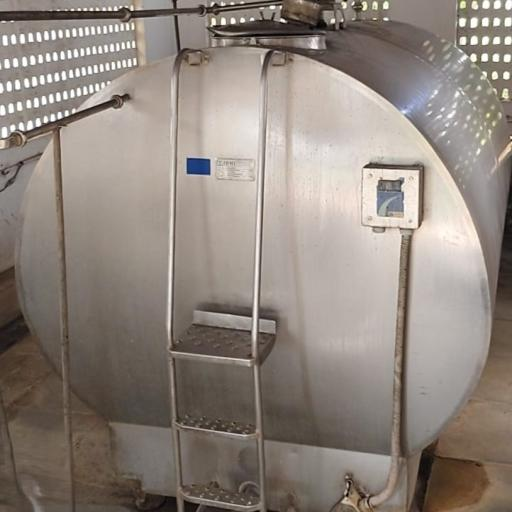silo: (15, 19, 511, 507)
